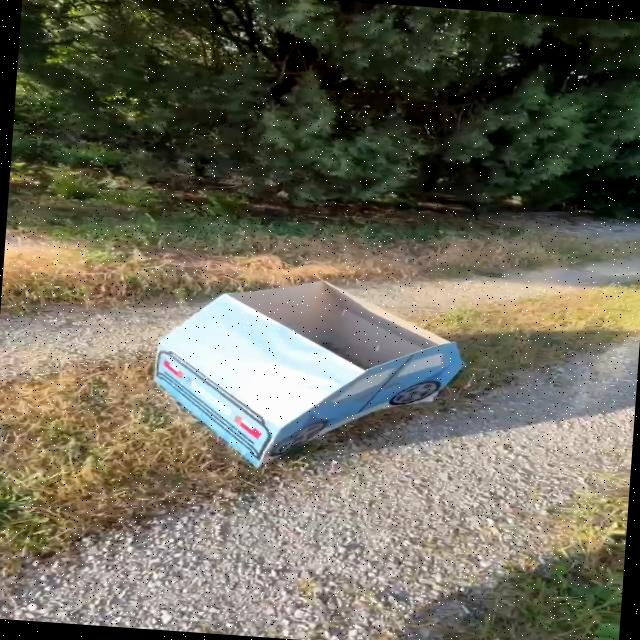blue_car: (84, 233, 517, 495)
